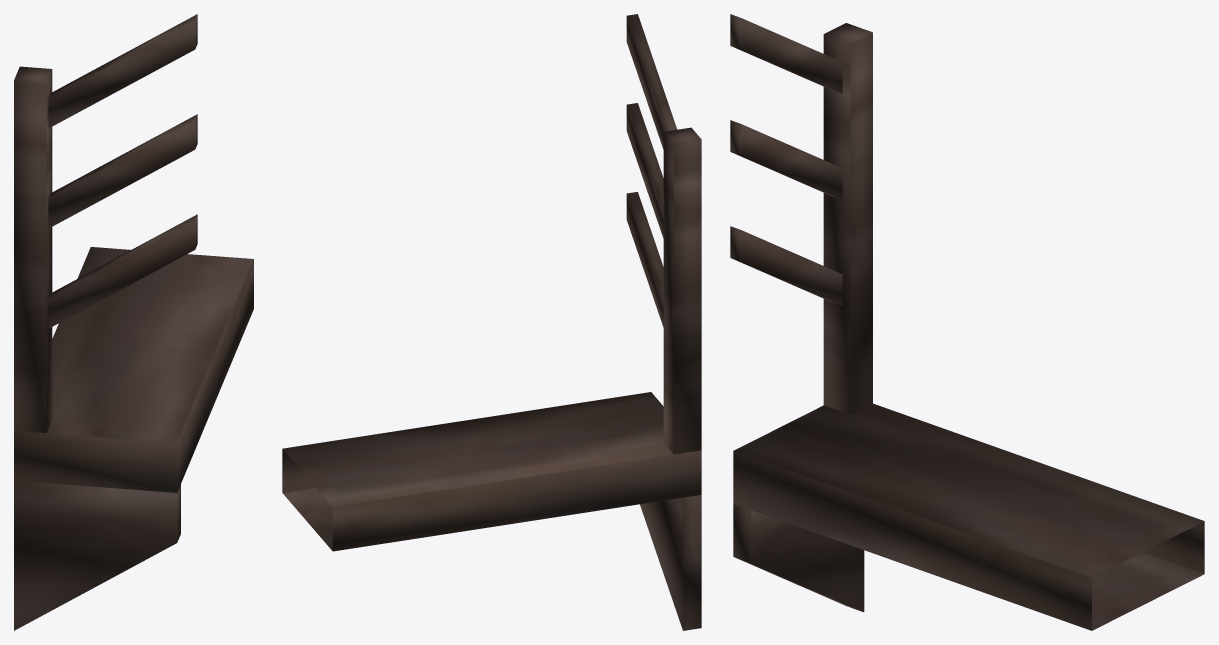
3 renders of one model, left to right at view 1: azimuth 30°, elevation 25°; view 2: azimuth 150°, elevation 25°; view 3: azimuth 270°, elevation 25°, orthographic. The views are drawn at different scales.
Parts seen in each view (by area): view 1: esc_r014_Wood_06002_0; view 2: esc_r014_Wood_06002_0; view 3: esc_r014_Wood_06002_0.
Part boxes in pixels (left/top/right/bottom): esc_r014_Wood_06002_0: left=14, top=14, right=253, bottom=630; esc_r014_Wood_06002_0: left=282, top=14, right=701, bottom=630; esc_r014_Wood_06002_0: left=730, top=14, right=1204, bottom=630.
Bounding box in the file's own units: 0.744 × 1.24 × 0.8112.
1 material, 1 textured.
